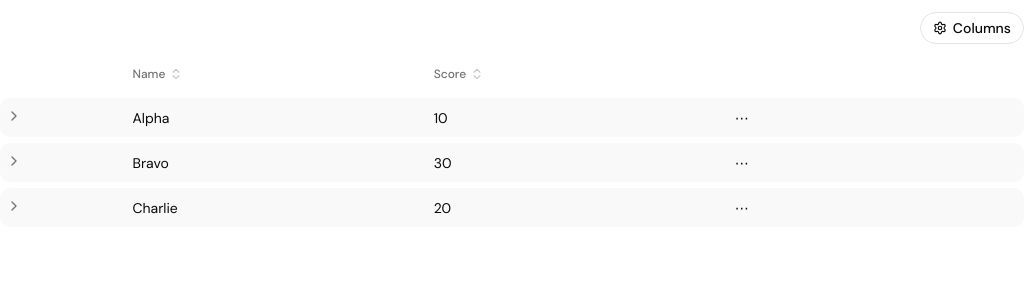
Scenario: DataTable › renders an expanded detail row when the chevron is clicked
Click the button named "Expand row" next to "Alpha" at (14, 116), box top-left (4, 106), bottom-right (24, 126)
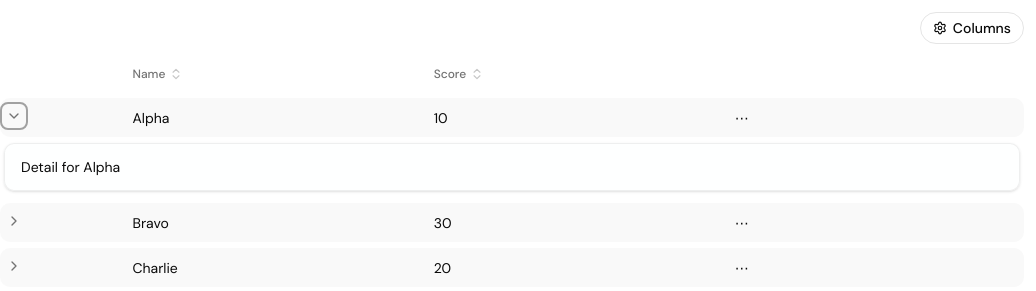
Now the text "Detail for Alpha" is shown, box top-left (21, 158), bottom-right (120, 176)
